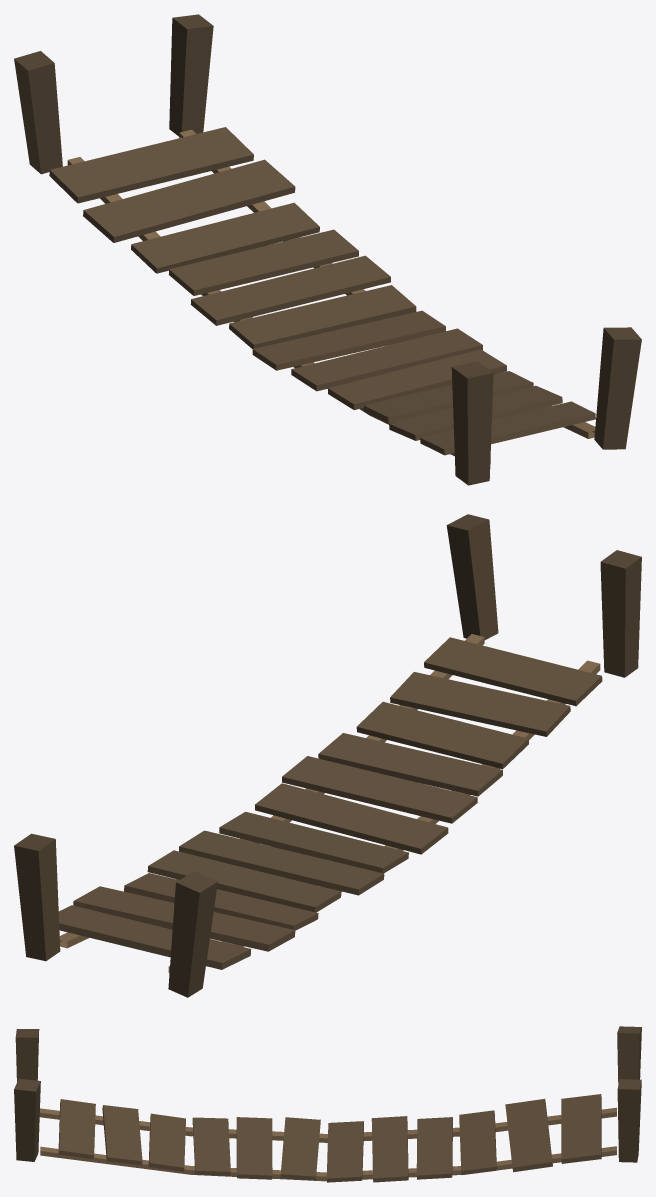
Rendered from Bridge-A02.fbx.
3 renders of one model, top to bottom at view 1: azimuth 30°, elevation 25°; view 2: azimuth 150°, elevation 25°; view 3: azimuth 270°, elevation 25°, orthographic. The views are drawn at different scales.
Visible parts, largest first — view 1: Bridge-A02; view 2: Bridge-A02; view 3: Bridge-A02.
Part boxes in pixels (left/top/right/bottom): Bridge-A02: left=14, top=14, right=641, bottom=485; Bridge-A02: left=14, top=514, right=641, bottom=997; Bridge-A02: left=14, top=1026, right=641, bottom=1182.
Bounding box in the file's own units: 297 × 214 × 1196.
